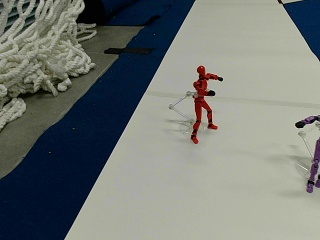pedestrian: (191, 66, 222, 142), (296, 111, 319, 191)
